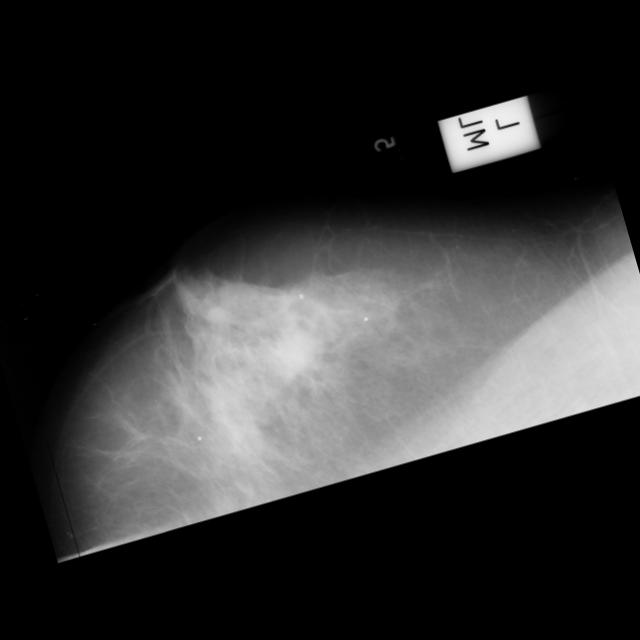MISC: (194, 0, 628, 335)
